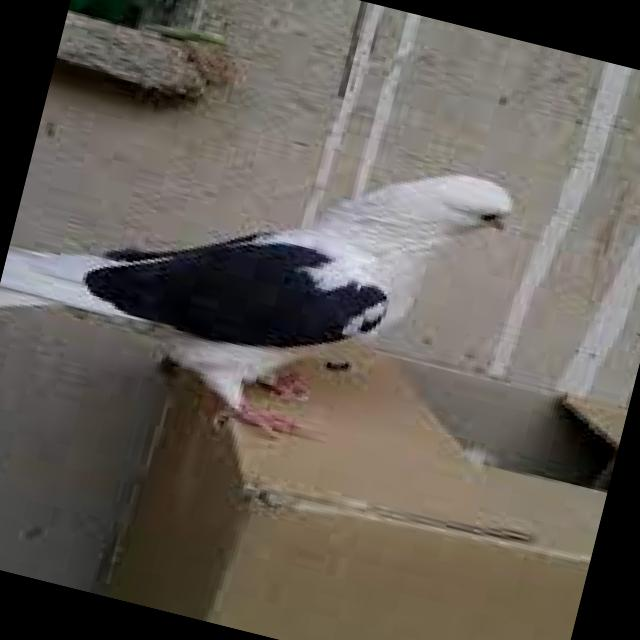bird: (0, 59, 529, 493)
